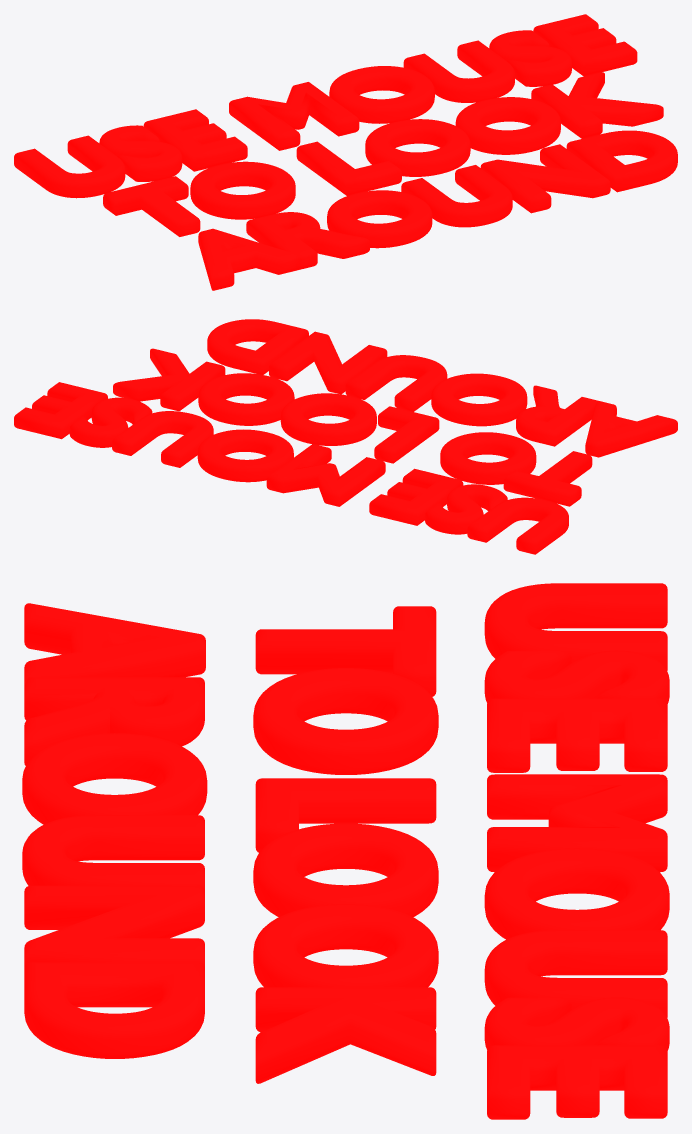
The model's file is MOUSE_TO_LOOK.gltf.
3 views of the same model, one above another, from view 1: azimuth 30°, elevation 25°; view 2: azimuth 150°, elevation 25°; view 3: azimuth 270°, elevation 25° (orthographic). The views are drawn at different scales.
Visible parts, largest first — view 1: Text; view 2: Text; view 3: Text.
Boxes of the visible parts, x1,y1,x2,y2 form: Text: (14, 14, 677, 290); Text: (14, 319, 677, 554); Text: (22, 583, 669, 1119).
Size of the model in its own units: 5.22 by 0.16 by 2.8.
